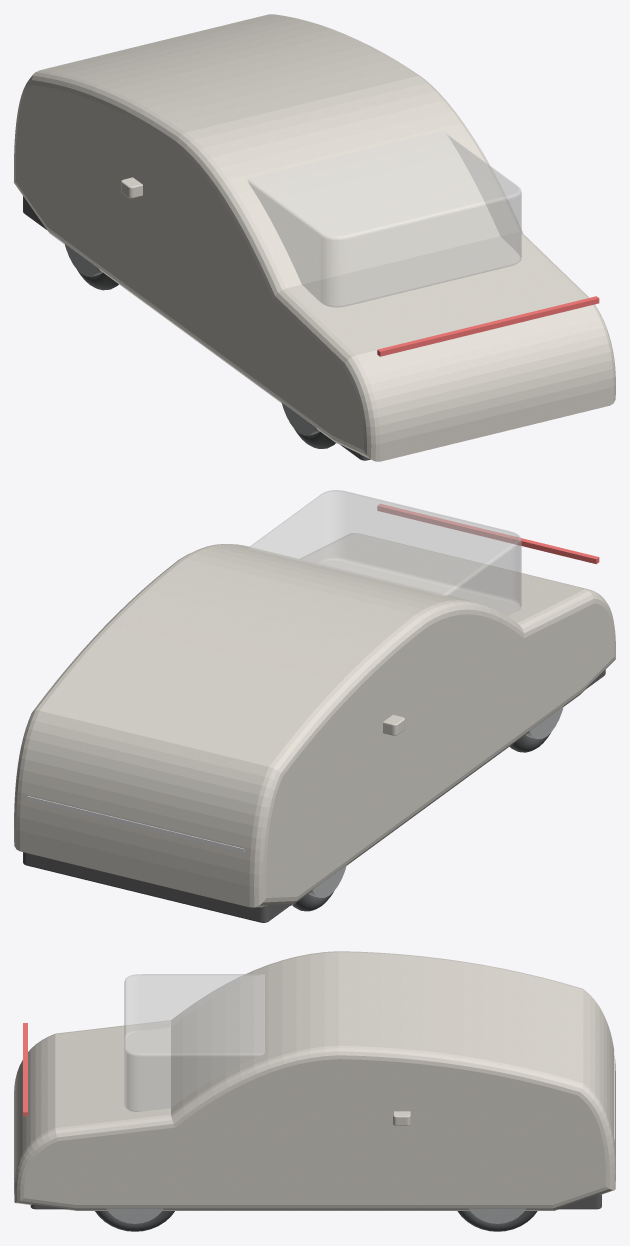
File: kowhai-hero-car-01.glb
3 views of the same model, one above another, from view 1: azimuth 30°, elevation 25°; view 2: azimuth 150°, elevation 25°; view 3: azimuth 270°, elevation 25° (orthographic). The views are drawn at different scales.
Parts seen in each view (by area): view 1: Car_AerodynamicBodyShell, Car_PanoramicCabinGlass, Car_RearLEDLightBar; view 2: Car_AerodynamicBodyShell, Car_PanoramicCabinGlass, Car_LowerBatterySkirt, Car_RearLEDLightBar, Car_FrontLEDLightBar; view 3: Car_AerodynamicBodyShell, Car_PanoramicCabinGlass, SubPart (×4), Car_LowerBatterySkirt, Car_RearLEDLightBar.
Boxes of the visible parts, x1,y1,x2,y2 form: Car_AerodynamicBodyShell: (14,14,615,461); Car_PanoramicCabinGlass: (247,131,521,307); Car_RearLEDLightBar: (377,296,599,356); Car_AerodynamicBodyShell: (14,533,615,907); Car_PanoramicCabinGlass: (248,490,521,615); Car_LowerBatterySkirt: (23,670,605,922); Car_RearLEDLightBar: (377,504,599,564); Car_FrontLEDLightBar: (27,796,244,853); Car_AerodynamicBodyShell: (14,951,615,1210); Car_PanoramicCabinGlass: (124,974,264,1111); SubPart (×4): (95,1208,537,1231); Car_LowerBatterySkirt: (30,1194,601,1209); Car_RearLEDLightBar: (23,1023,27,1116).
Bounding box in the file's own units: 2.12 × 1.64 × 4.78.
Materials: 4 (4 with a texture image).
